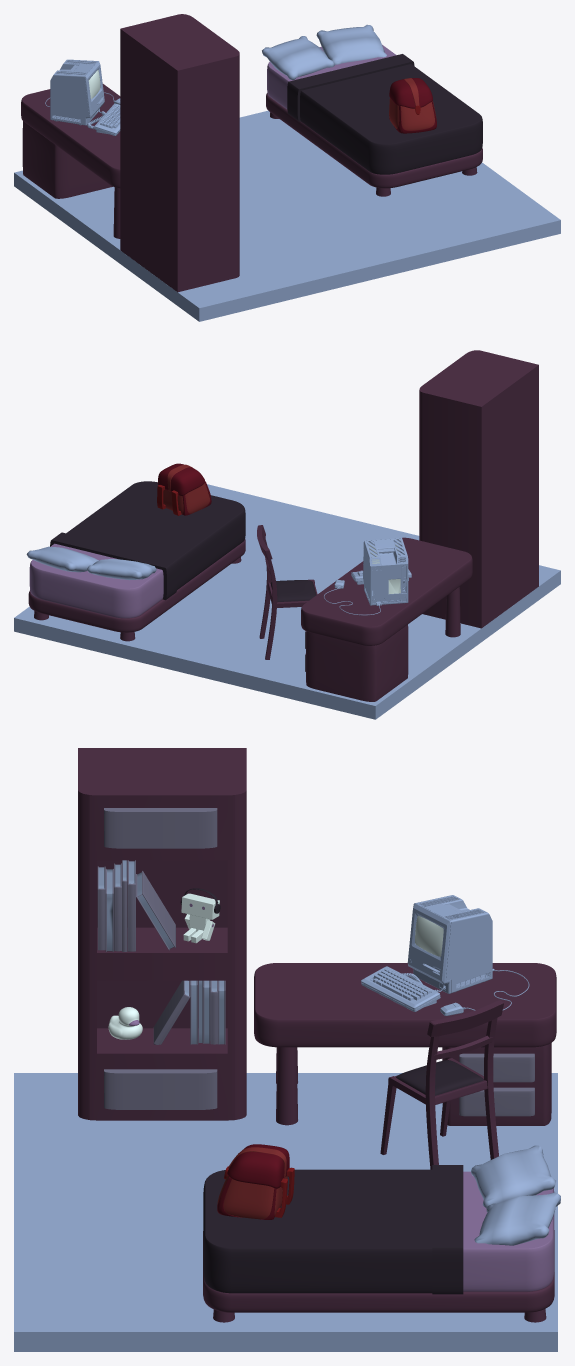
File: Cuarto-prueba_Oscuro.fbx
The picture shows the model from 3 angles, top to bottom: view 1: azimuth 30°, elevation 25°; view 2: azimuth 150°, elevation 25°; view 3: azimuth 270°, elevation 25°; orthographic projection. The views are drawn at different scales.
Visible parts, largest first — view 1: Pared, Armario, Colchon, Tabla, pc, Patas cama, Almohada.001, Almohada, Maleta.001, Maleta.002; view 2: Pared, Armario, Colchon, Tabla, Patas cama, pc, Chair, Almohada.001, Almohada, Maleta.002, Maleta.001; view 3: Pared, Armario, Colchon, Tabla, pc, Patas cama, Chair, Books, Books2, Almohada, Almohada.001, Maleta.002 (+3 smaller).
Part boxes in pixels (x1,y1,x2,y2): Pared: [14, 110, 560, 321]; Armario: [120, 14, 239, 292]; Colchon: [267, 44, 482, 174]; Tabla: [21, 84, 120, 238]; pc: [45, 59, 120, 135]; Patas cama: [266, 93, 482, 196]; Almohada.001: [316, 24, 386, 64]; Almohada: [262, 36, 334, 79]; Maleta.001: [389, 98, 436, 130]; Maleta.002: [389, 78, 432, 108]; Pared: [14, 484, 560, 719]; Armario: [419, 350, 538, 628]; Colchon: [29, 481, 245, 618]; Tabla: [301, 537, 472, 701]; Patas cama: [28, 538, 245, 641]; pc: [323, 538, 411, 615]; Chair: [257, 525, 317, 659]; Almohada.001: [26, 546, 99, 572]; Almohada: [87, 559, 156, 580]; Maleta.002: [157, 463, 204, 495]; Maleta.001: [163, 483, 209, 513]; Pared: [14, 1073, 557, 1351]; Armario: [78, 748, 246, 1120]; Colchon: [203, 1165, 554, 1294]; Tabla: [254, 963, 556, 1125]; pc: [361, 895, 529, 1015]; Patas cama: [203, 1230, 554, 1322]; Chair: [380, 1000, 503, 1169]; Books: [97, 860, 175, 951]; Books2: [153, 980, 225, 1044]; Almohada: [471, 1145, 555, 1207]; Almohada.001: [474, 1192, 560, 1245]; Maleta.002: [227, 1144, 289, 1188].
Bounding box in the file's own units: 741 × 461 × 661.
